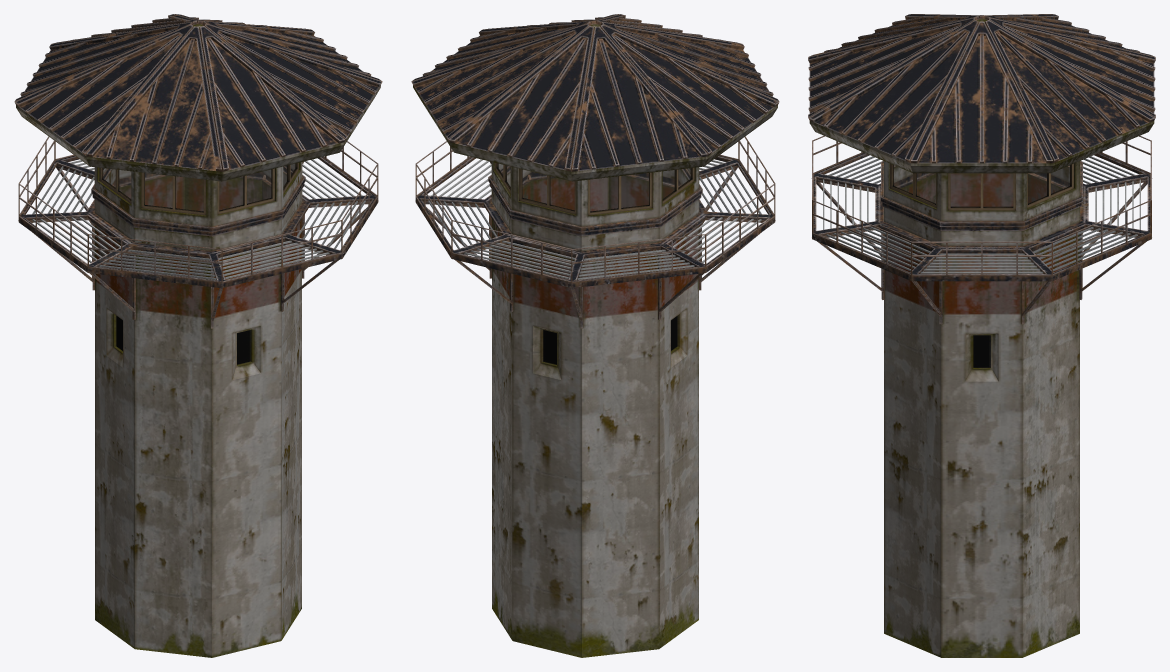
File: torre.glb
The picture shows the model from 3 angles, left to right: view 1: azimuth 30°, elevation 25°; view 2: azimuth 150°, elevation 25°; view 3: azimuth 270°, elevation 25°; orthographic projection.
Parts seen in each view (by area): view 1: Cylinder_0; view 2: Cylinder_0; view 3: Cylinder_0.
Part boxes in pixels (left/top/right/bottom): Cylinder_0: left=14, top=14, right=382, bottom=657; Cylinder_0: left=411, top=14, right=779, bottom=657; Cylinder_0: left=808, top=14, right=1155, bottom=657.
Size of what is drawn, in the model's own units: 3 by 5.7 by 3.
Materials: 2 (1 with a texture image).
